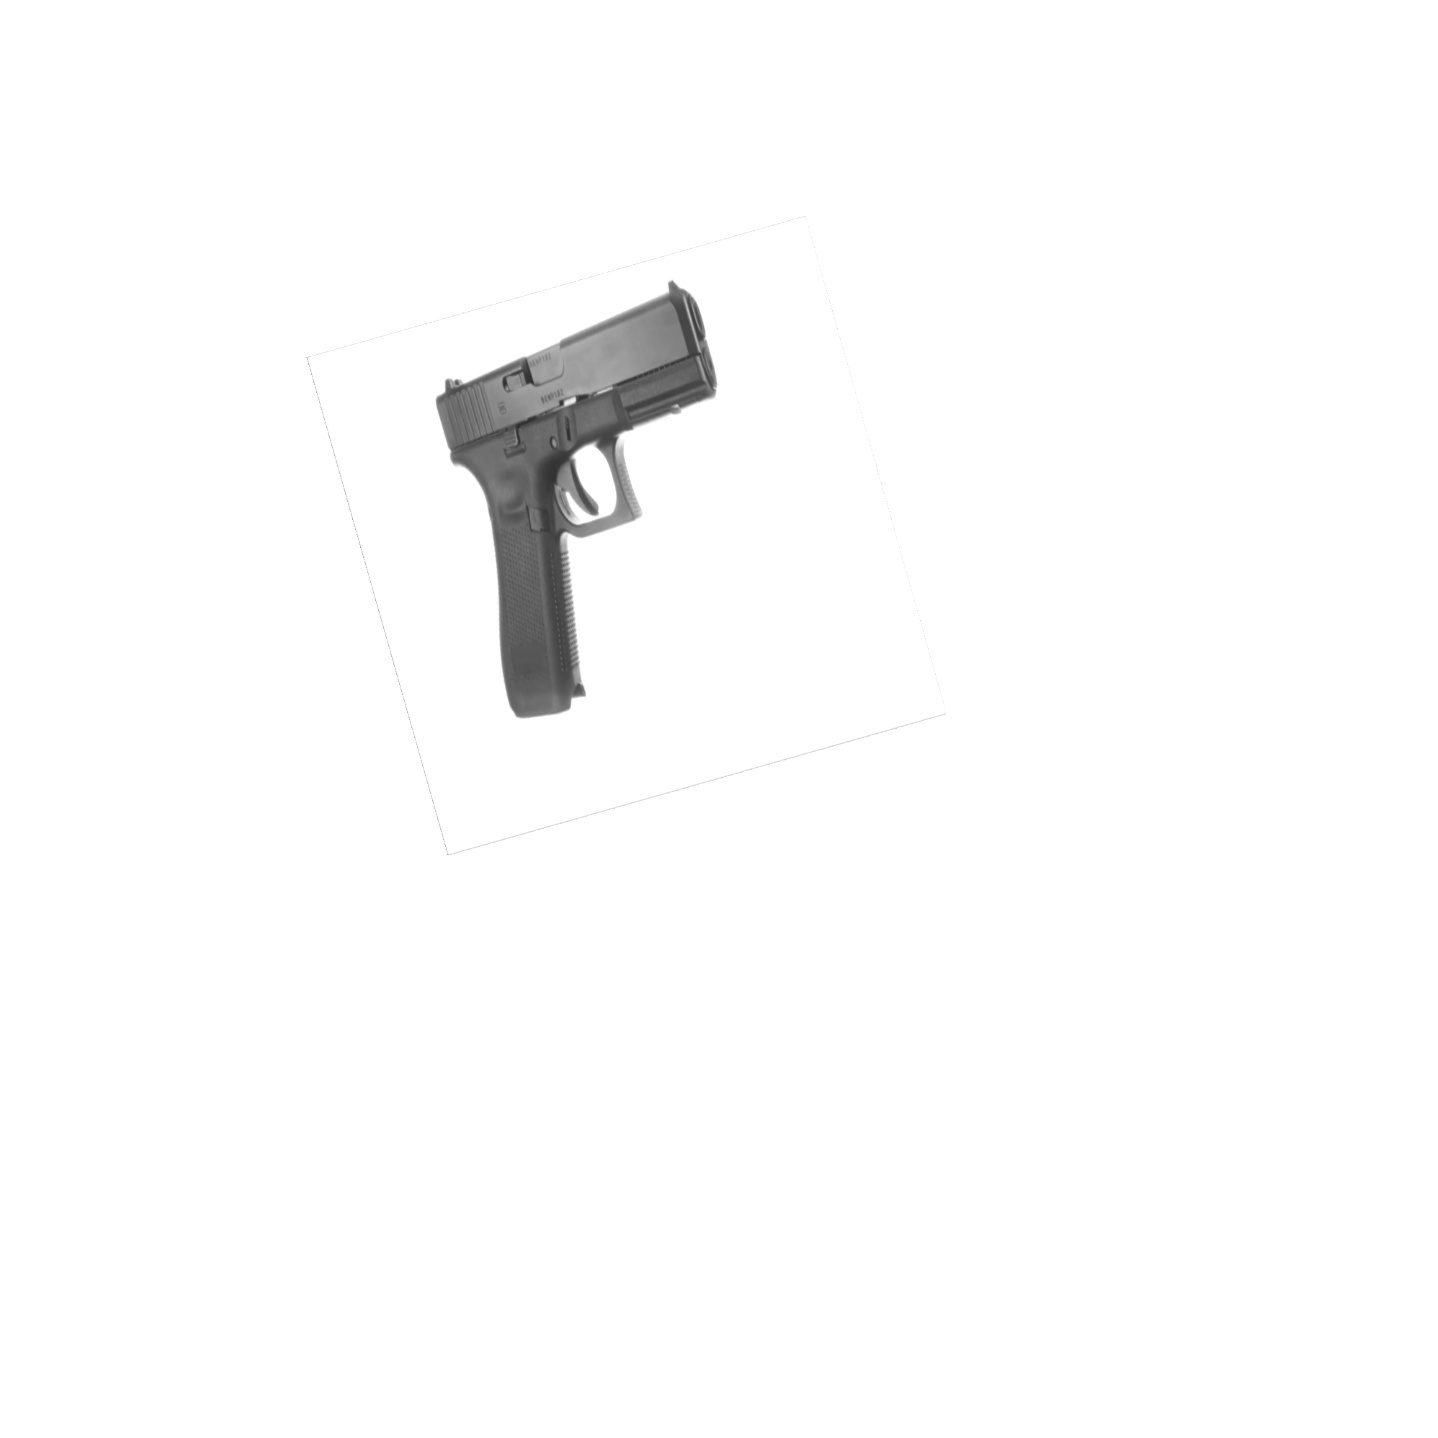gun: (431, 275, 723, 723)
